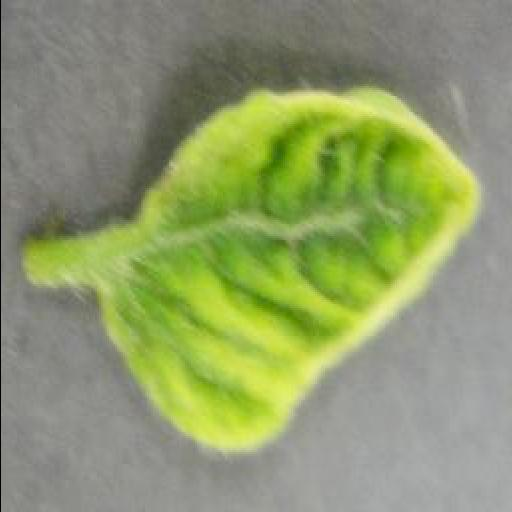disease_tomato: (99, 82, 485, 454)
